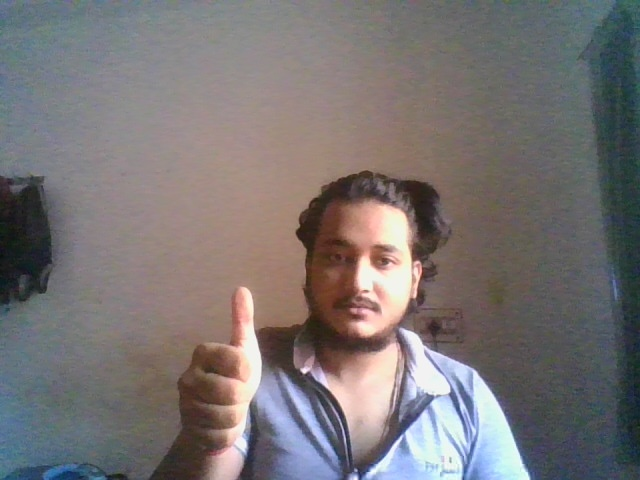ThumbsUp: (175, 287, 261, 447)
